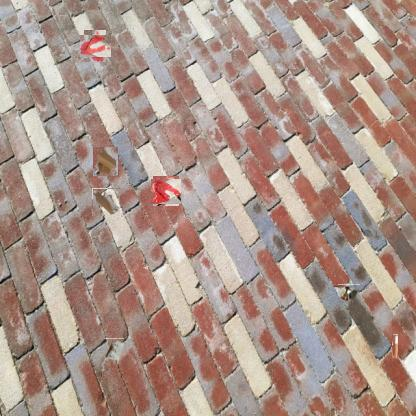dirty: (92, 188, 120, 216), (92, 146, 118, 176), (104, 338, 124, 361), (338, 284, 360, 303), (392, 334, 398, 359)
liquid: (152, 177, 180, 205), (82, 32, 109, 60)
